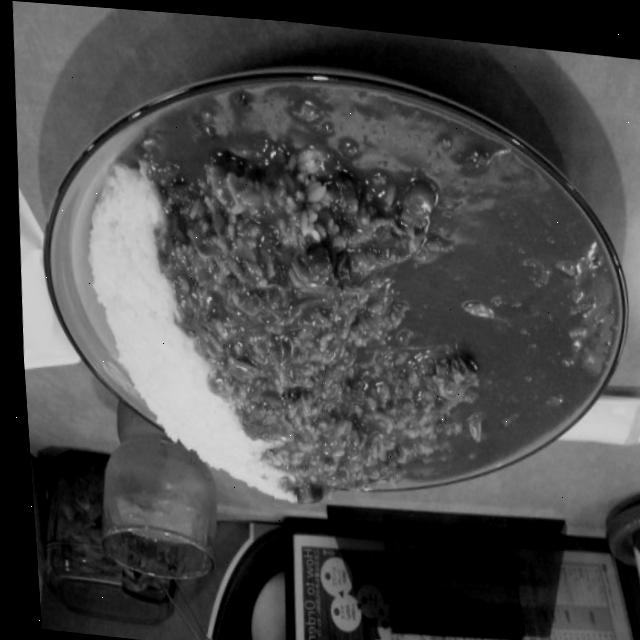猪肉菜式: (16, 10, 640, 561)
